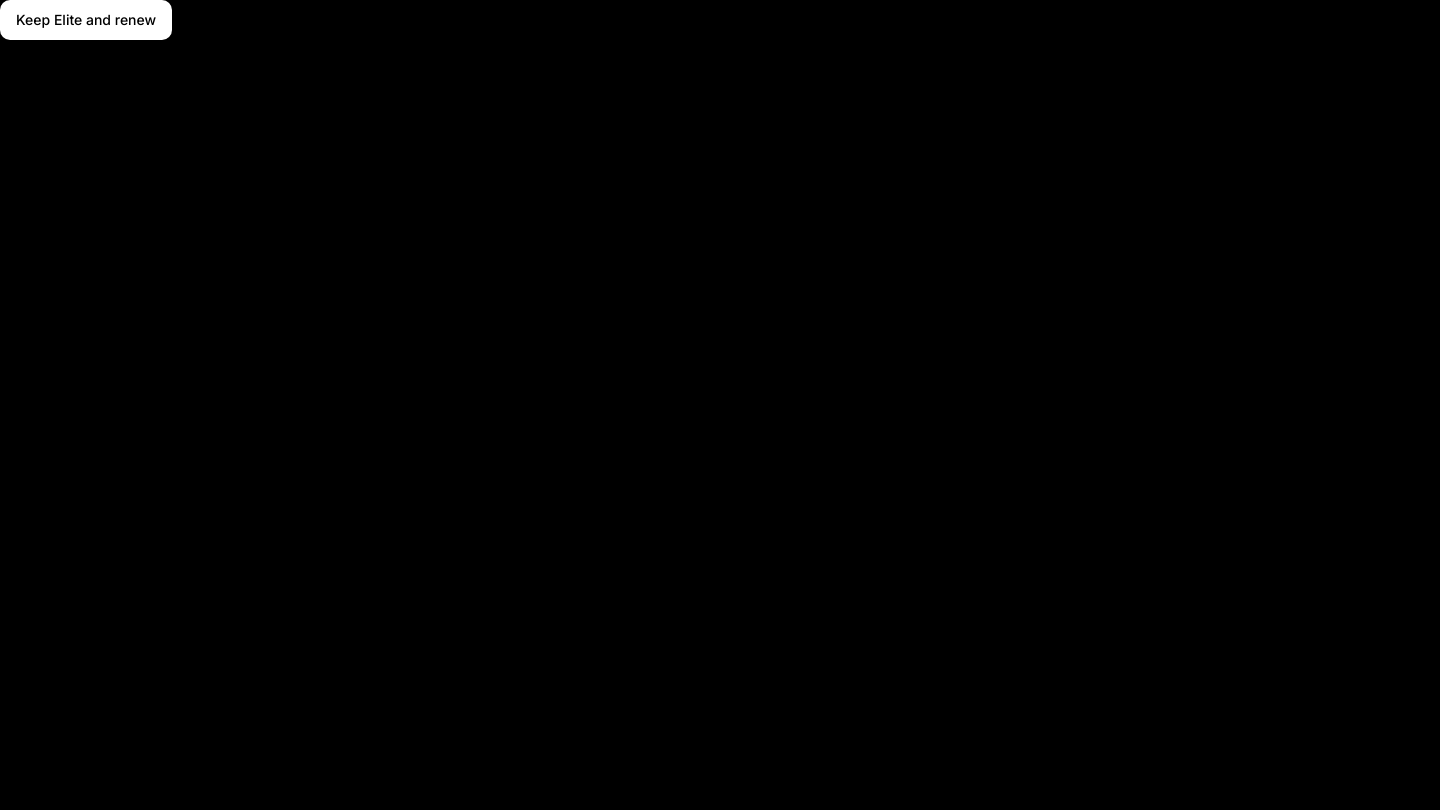
RenewEliteDialog › keeps preview failure non-mutating and offers Retry
The width and height of the screenshot is (1440, 810).
Click the button "Keep Elite and renew" at (86, 20), box [0,0,172,40]
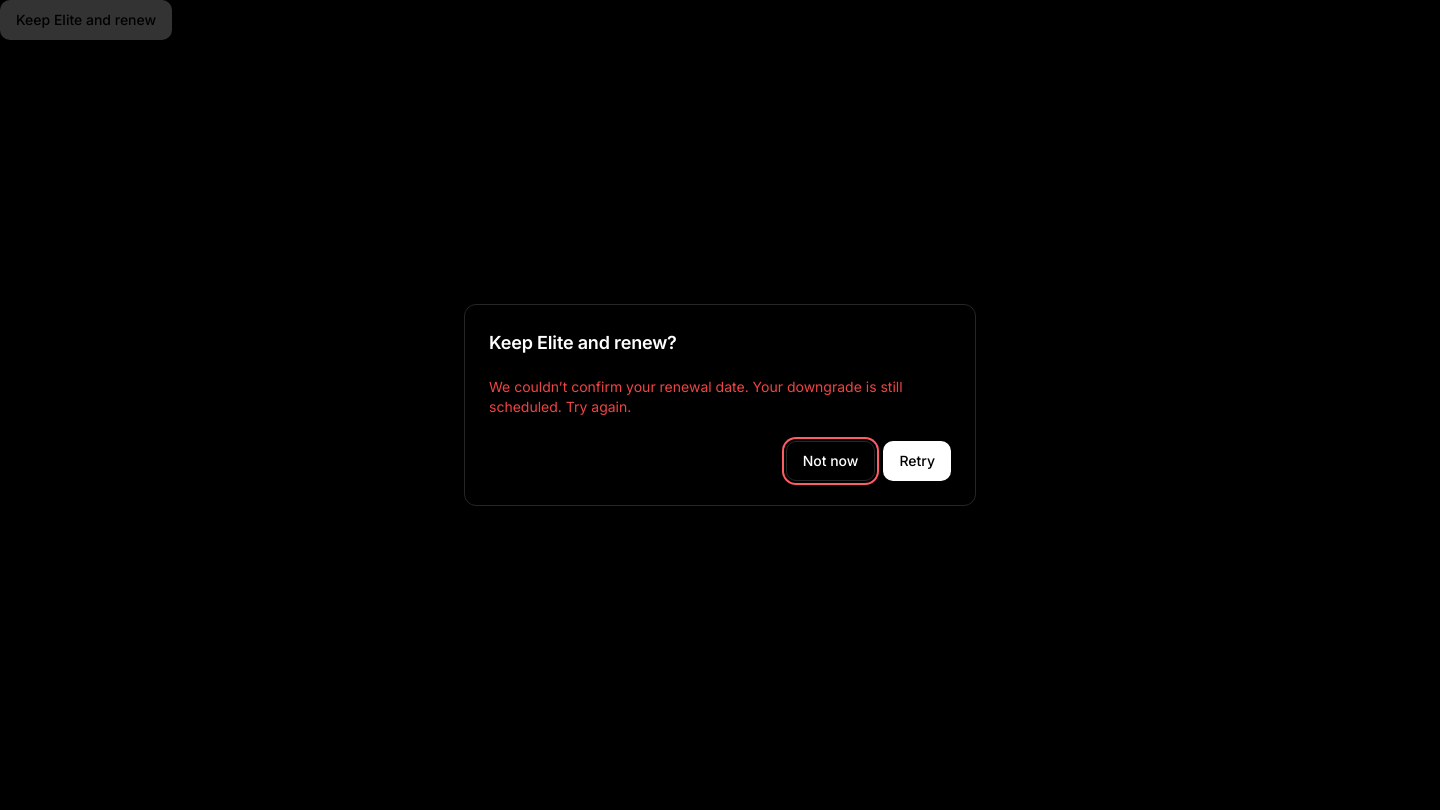
Expected: the text "We couldn’t confirm your renewal date. Your downgrade is still scheduled. Try again." is shown, [489,378,903,415]
Expected: the button "Retry" is enabled, [883,441,951,481]
